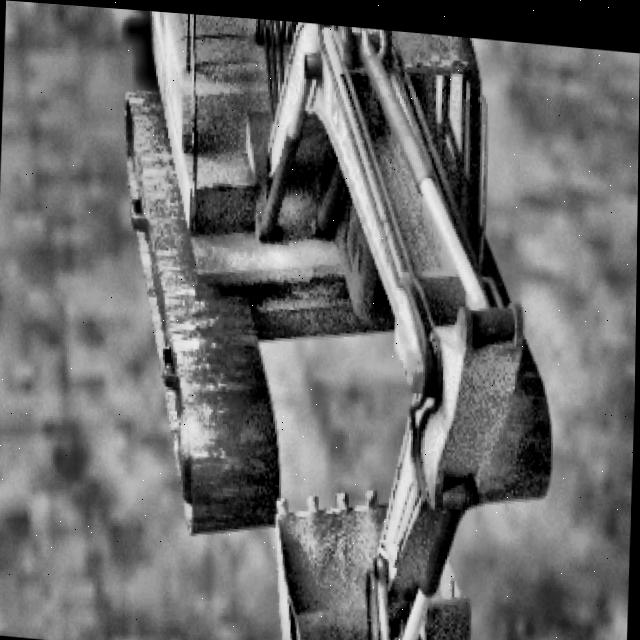excavator: (107, 7, 563, 640)
